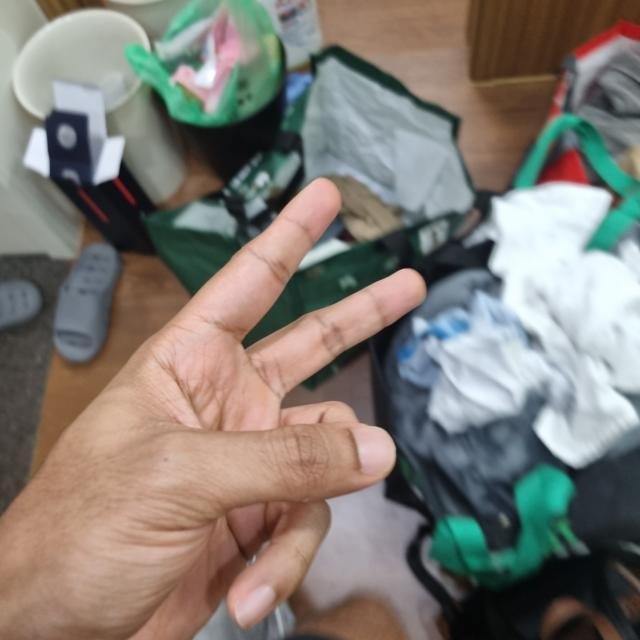Scissors: (0, 186, 424, 640)
